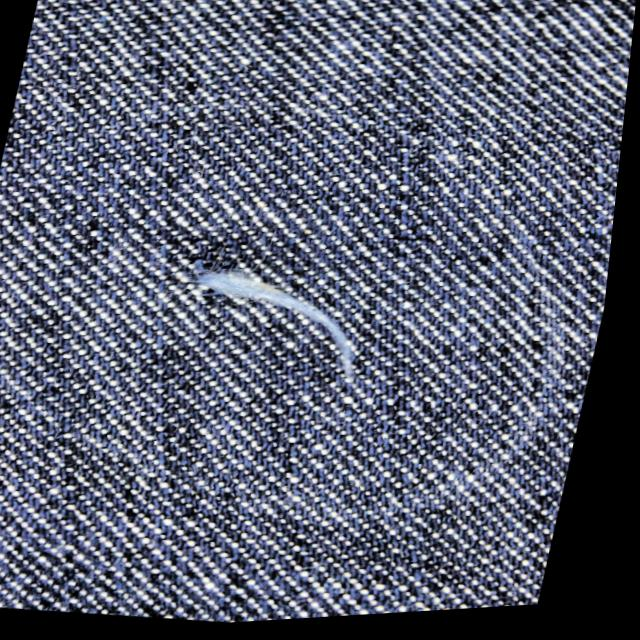Stitch: (136, 227, 455, 430)
